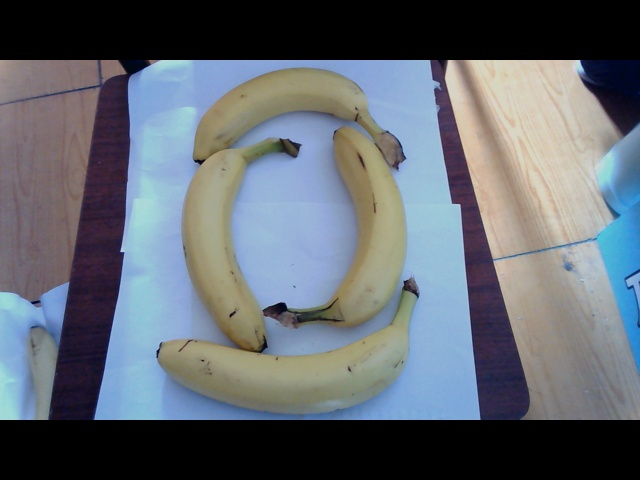banana: (156, 314, 446, 413), (300, 136, 418, 317), (171, 155, 274, 347), (188, 55, 402, 134)
